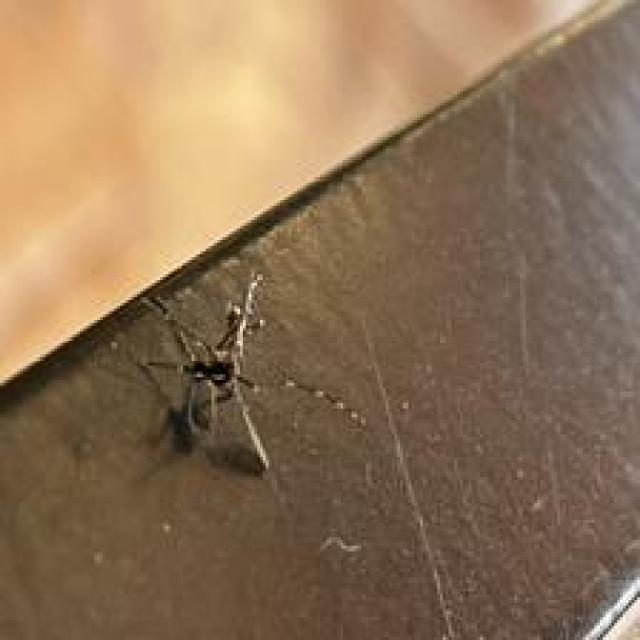Aedes albopictus: (137, 272, 274, 477)
